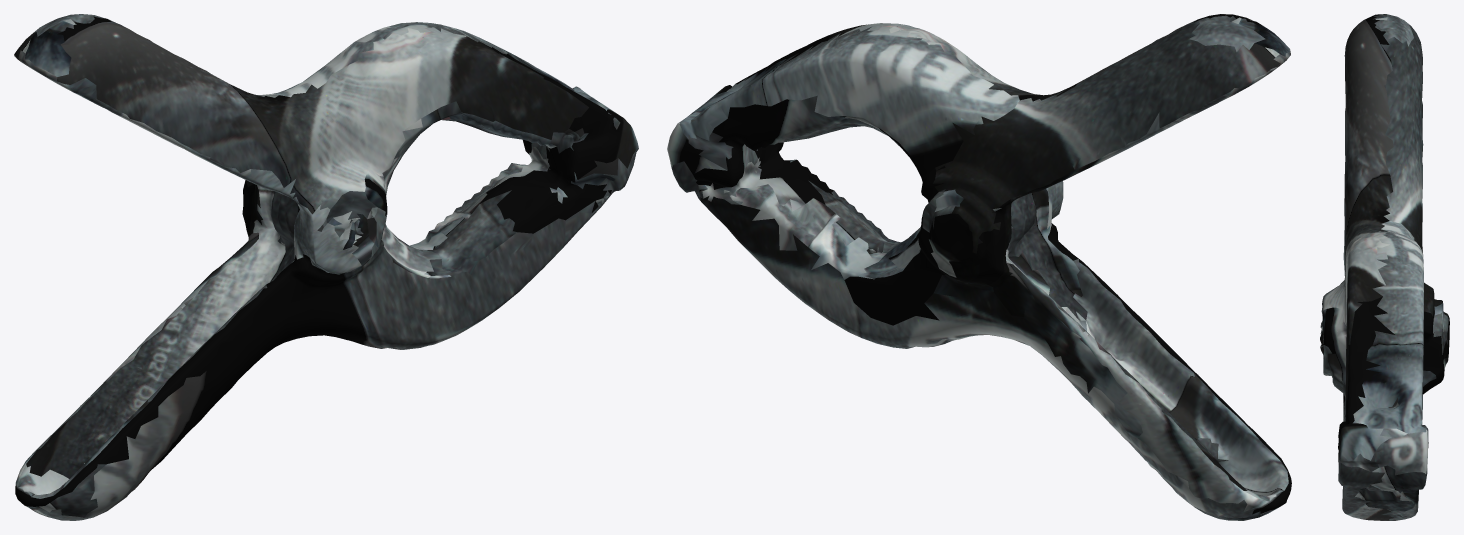
3 views of the same model, side by side, from view 1: azimuth 30°, elevation 25°; view 2: azimuth 150°, elevation 25°; view 3: azimuth 270°, elevation 25° (orthographic). The views are drawn at different scales.
Size of the model in its own units: 0.0844 by 0.0674 by 0.0184.
